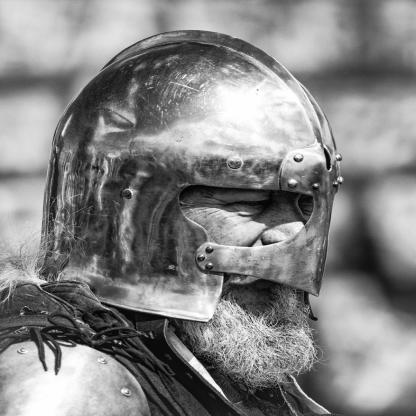Helmet: (37, 28, 341, 324)
